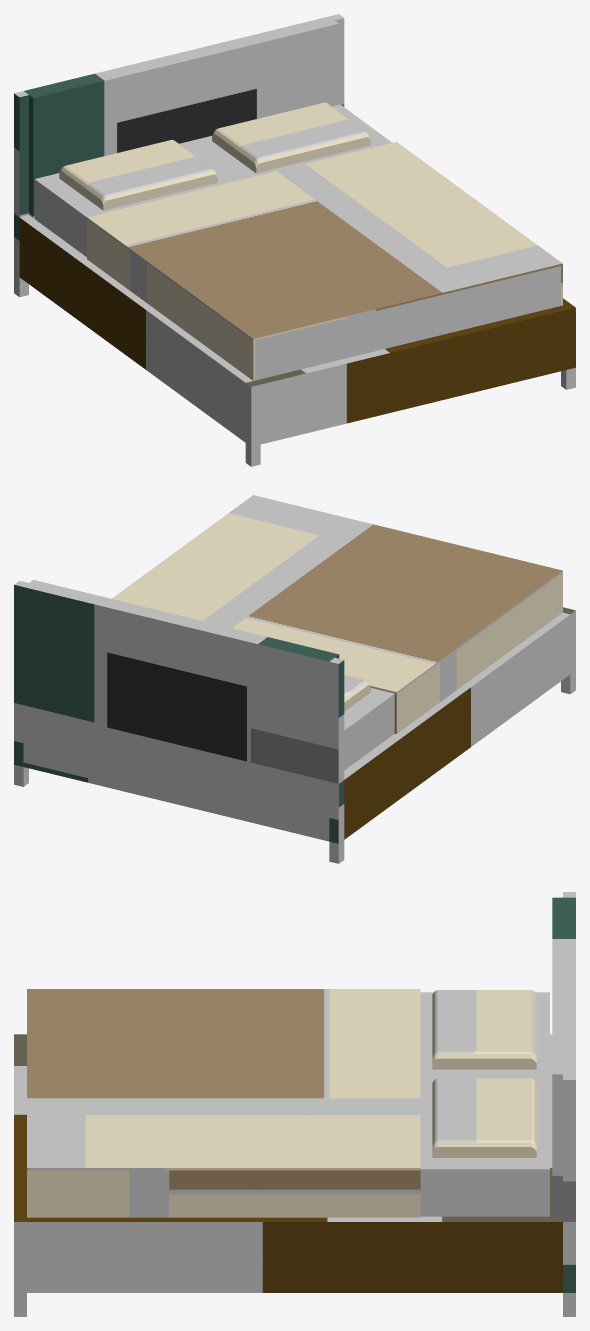
File: DoubleBed.fbx
3 views of the same model, one above another, from view 1: azimuth 30°, elevation 25°; view 2: azimuth 150°, elevation 25°; view 3: azimuth 270°, elevation 25° (orthographic). The views are drawn at different scales.
Parts seen in each view (by area): view 1: Plane; view 2: Plane; view 3: Plane.
Boxes of the visible parts, x1,y1,x2,y2 form: Plane: [14, 14, 575, 466]; Plane: [14, 495, 575, 863]; Plane: [14, 892, 575, 1316].
Size of the model in its own units: 215 by 100 by 170.
